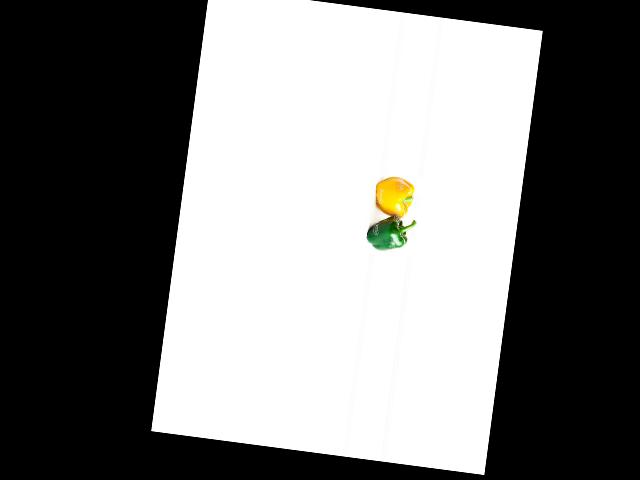bell_pepper: (359, 212, 412, 257)
